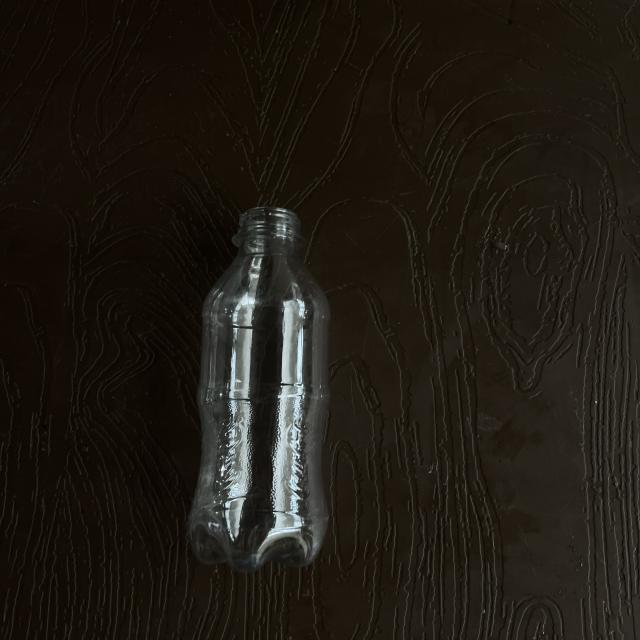PET_ClearBottle: (28, 206, 375, 584)
